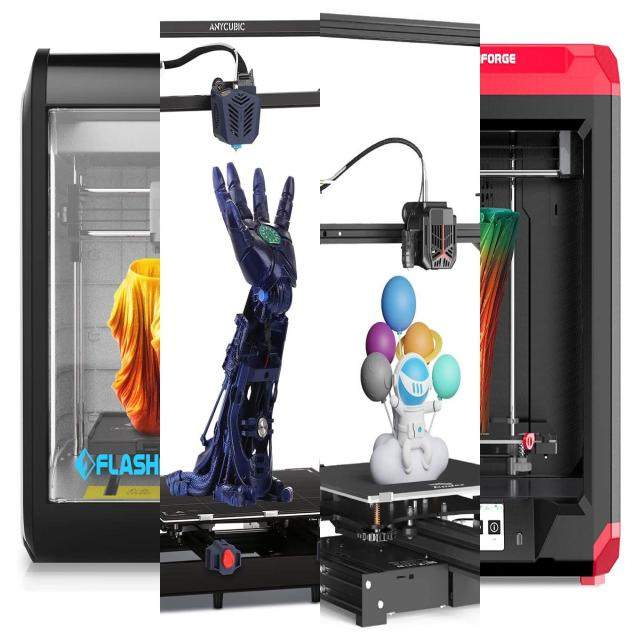Without deffect: (184, 148, 310, 512)
